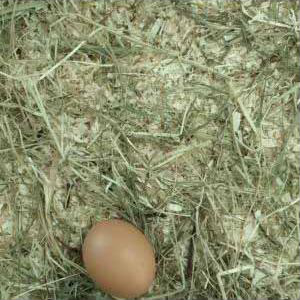egg: (82, 220, 158, 300)
